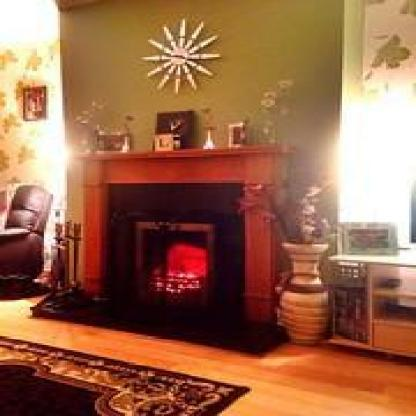fire: (128, 232, 218, 299)
other: (319, 90, 411, 224)
